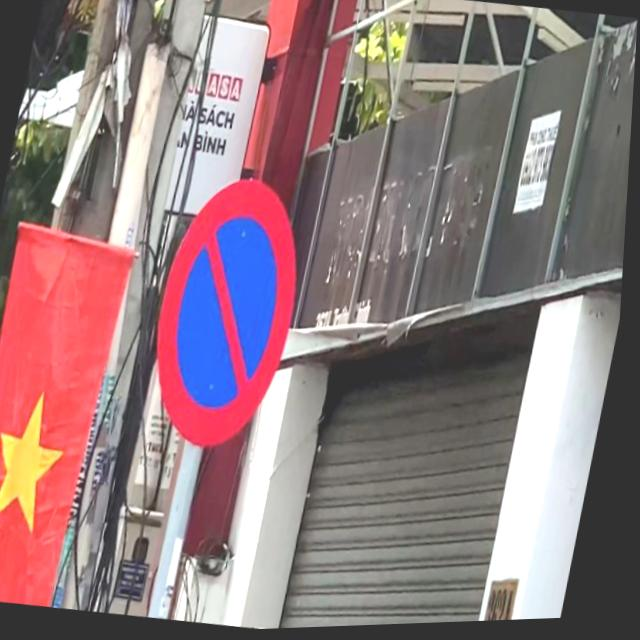Cam do xe: (139, 165, 322, 462)
